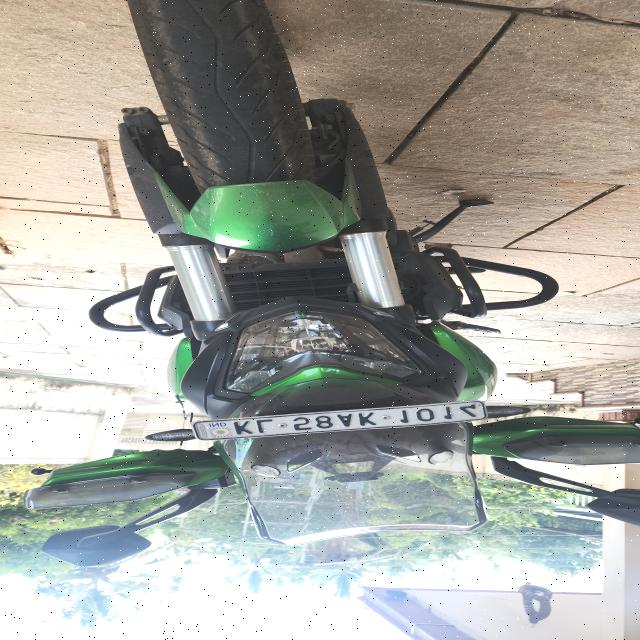headlight: (222, 309, 423, 395)
